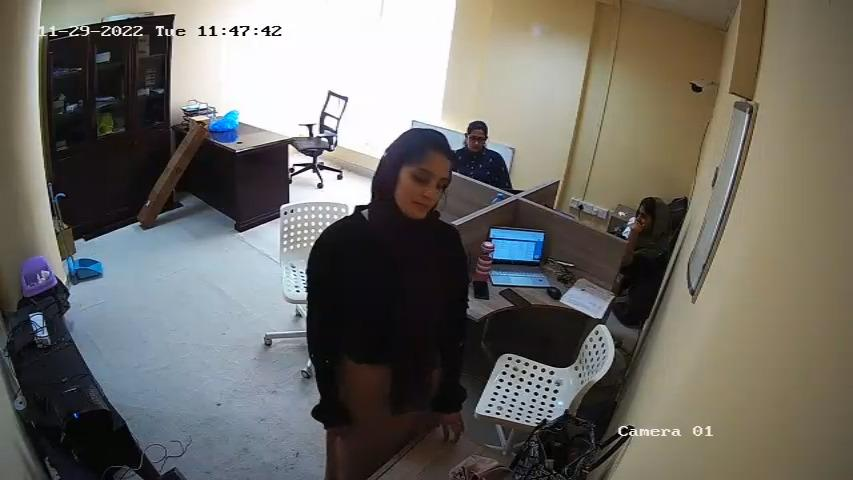no_apron: (324, 227, 449, 393)
